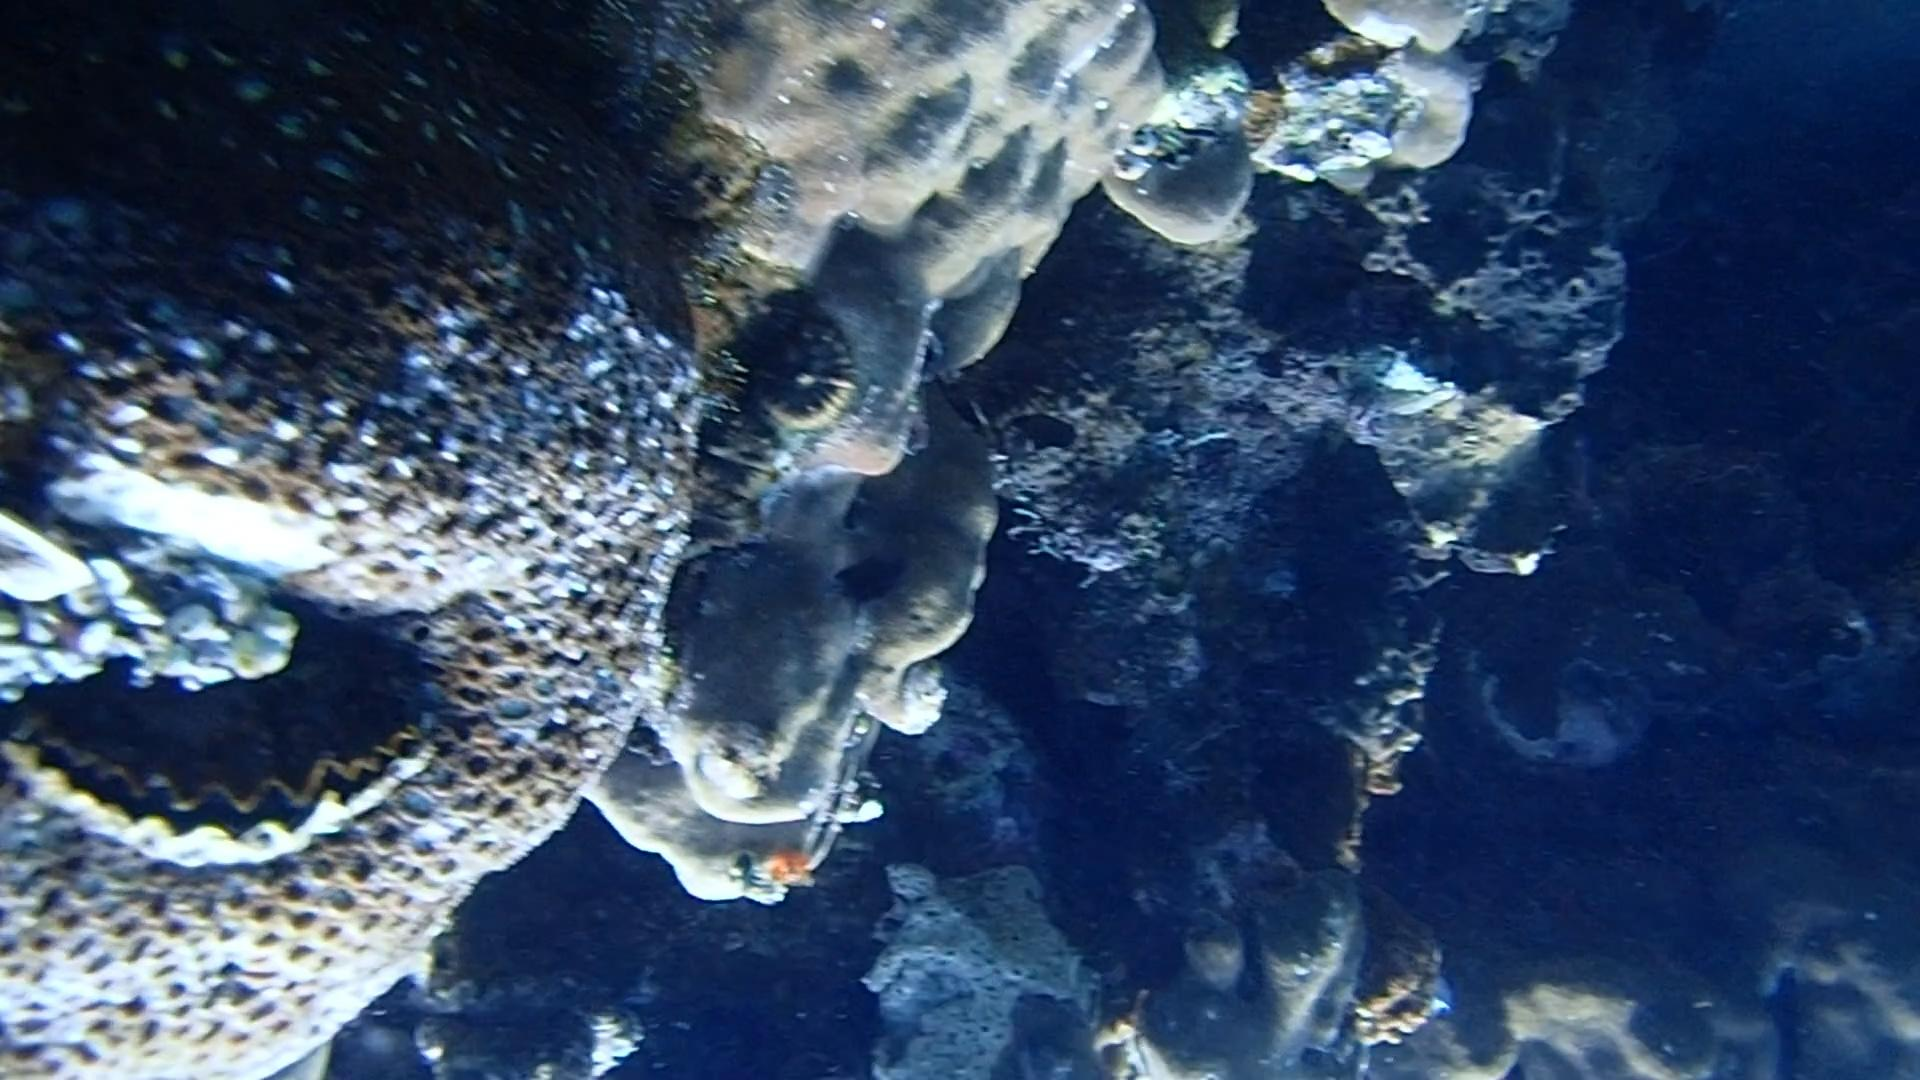Dark Fish: (811, 535, 927, 629), (985, 396, 1114, 464)
